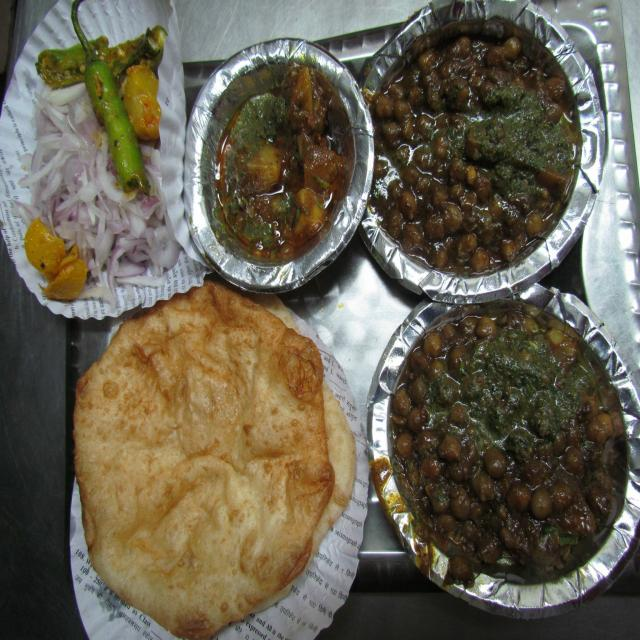Bhatura: (74, 282, 358, 639)
